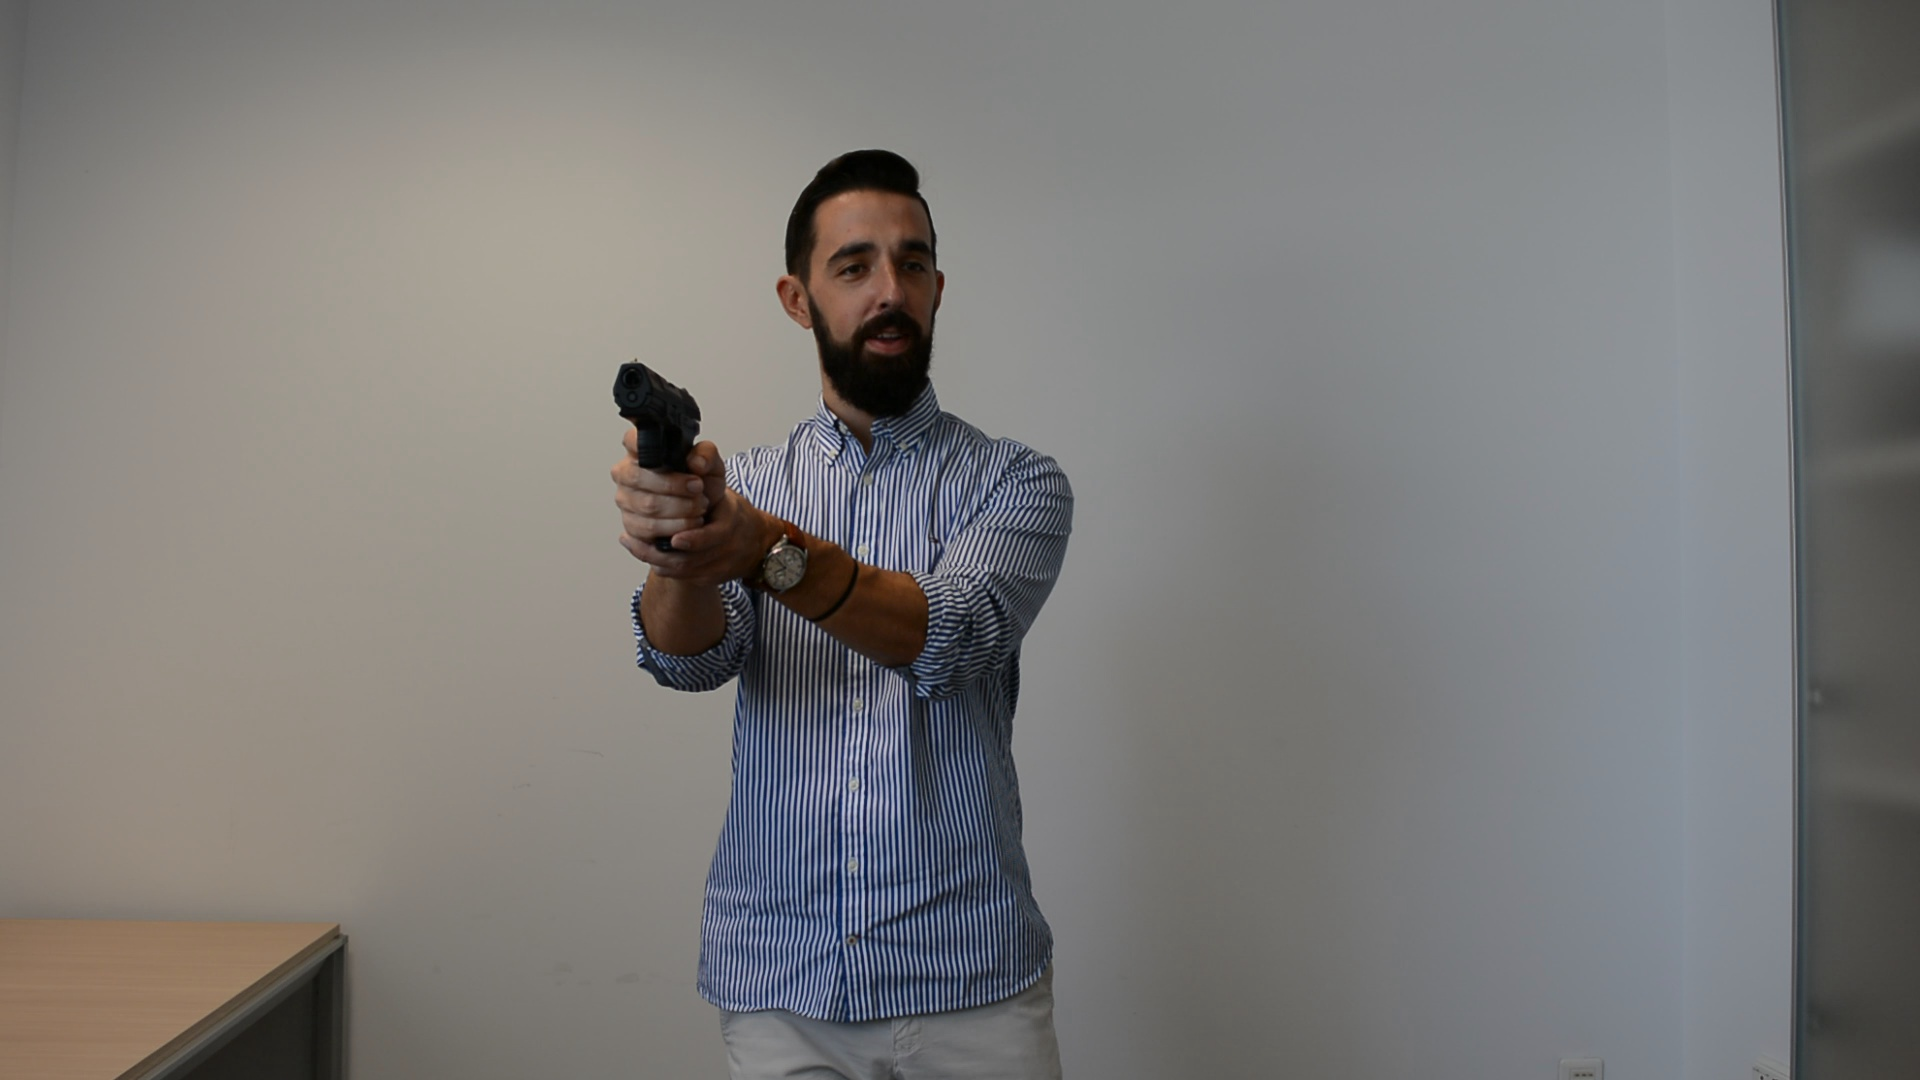pistol: (611, 353, 704, 556)
